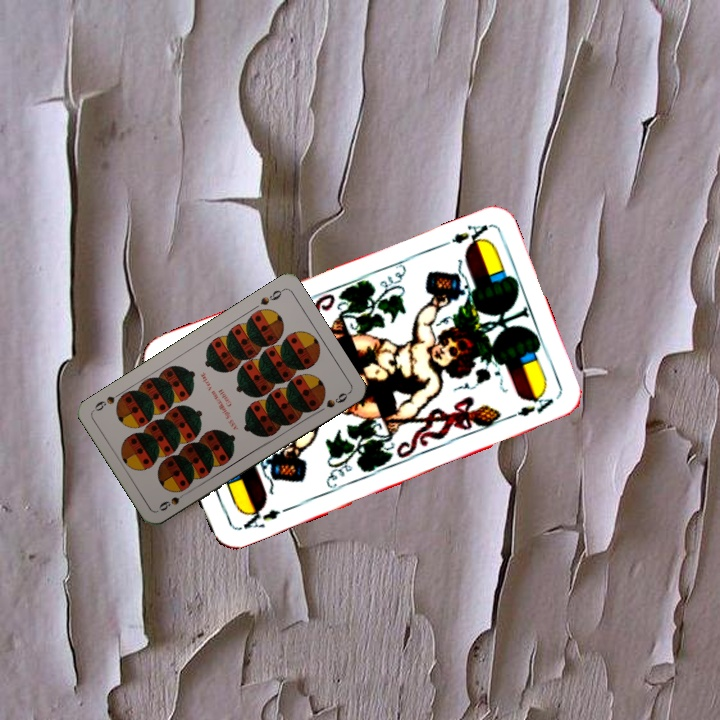EA: (434, 220, 491, 252), (233, 501, 283, 533)
S9: (155, 487, 191, 514), (256, 285, 286, 308)
